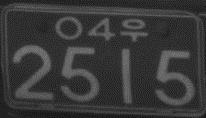0: (53, 15, 83, 40)
1: (110, 48, 145, 104)
2: (12, 44, 54, 101)
4: (86, 16, 115, 42)
5: (58, 45, 100, 103), (153, 49, 195, 107)
우: (120, 17, 148, 42)
